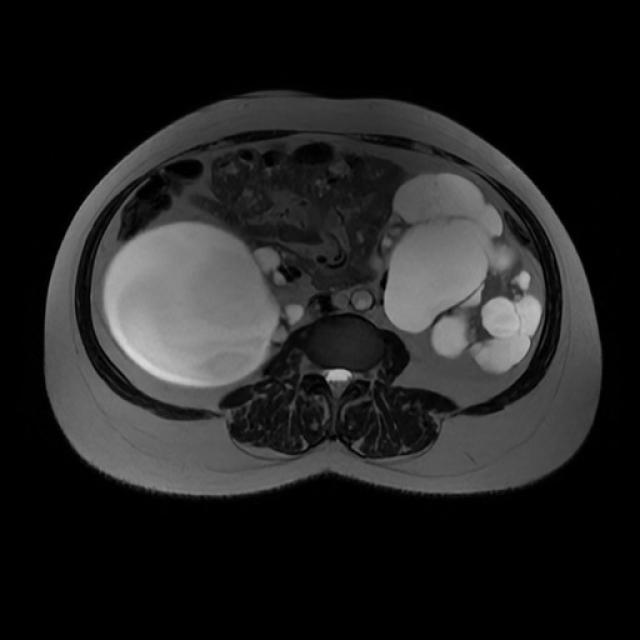sag: (107, 224, 302, 388)
sol: (381, 169, 537, 369)
